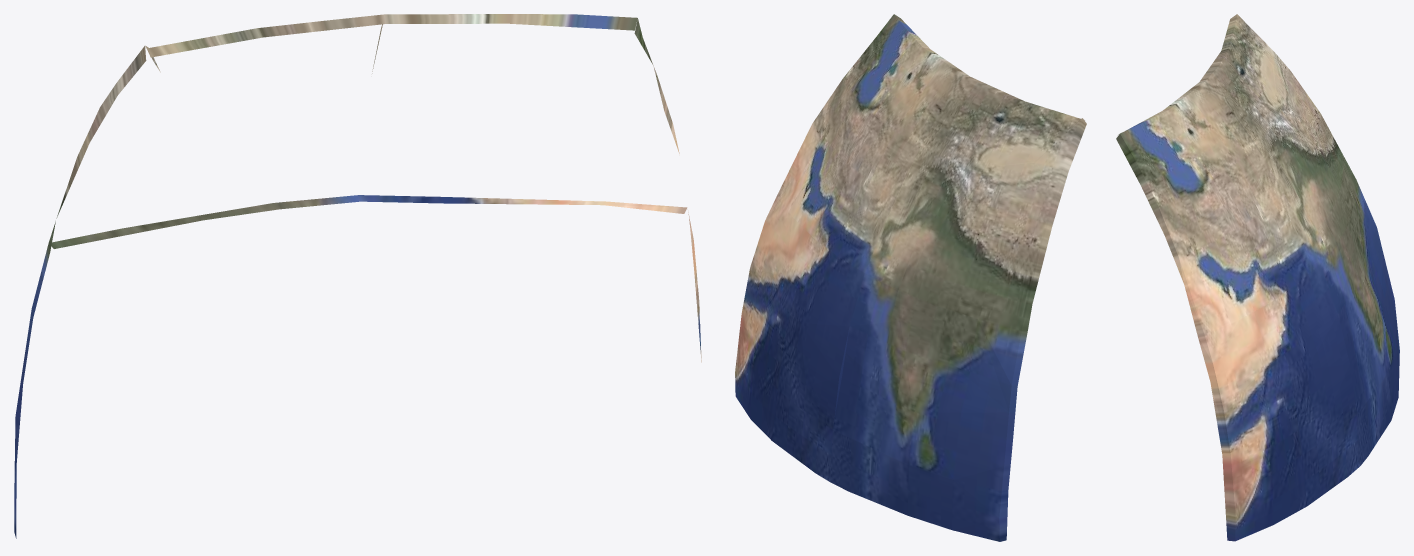
3 views of the same model, side by side, from view 1: azimuth 30°, elevation 25°; view 2: azimuth 150°, elevation 25°; view 3: azimuth 270°, elevation 25° (orthographic). The views are drawn at different scales.
Bounding box in the file's own units: 4556360 × 4554609 × 3234655.
Materials: 1 (1 with a texture image).
